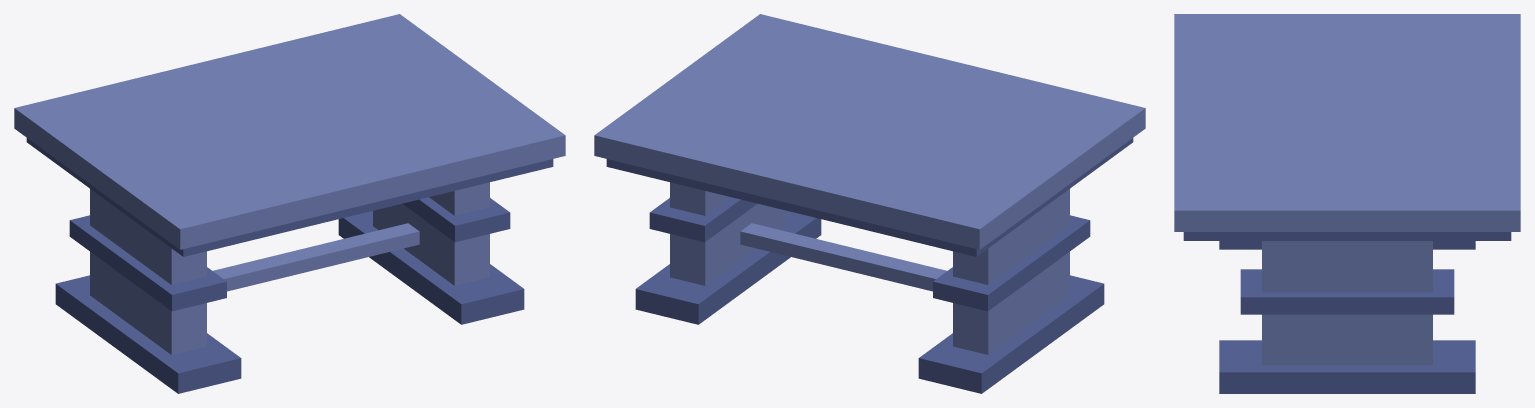
File: blue_dungeon_table_v0.glb
The picture shows the model from 3 angles, left to right: view 1: azimuth 30°, elevation 25°; view 2: azimuth 150°, elevation 25°; view 3: azimuth 270°, elevation 25°; orthographic projection. The views are drawn at different scales.
Parts seen in each view (by area): view 1: blue_dungeon_table_v0; view 2: blue_dungeon_table_v0; view 3: blue_dungeon_table_v0.
Part boxes in pixels (<box>): blue_dungeon_table_v0: <box>14,14,565,393</box>; blue_dungeon_table_v0: <box>594,14,1145,393</box>; blue_dungeon_table_v0: <box>1174,14,1520,393</box>.
Bounding box in the file's own units: 1.96 × 0.9 × 1.46.
